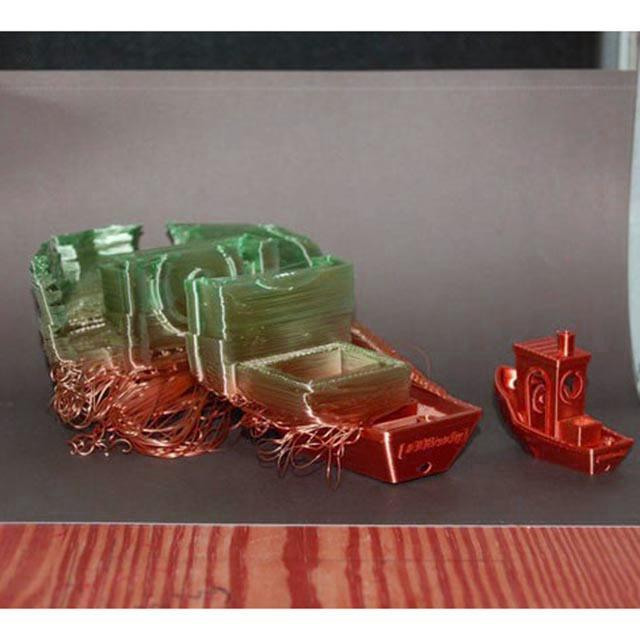Spaghetti: (51, 366, 232, 461), (240, 406, 362, 486)
